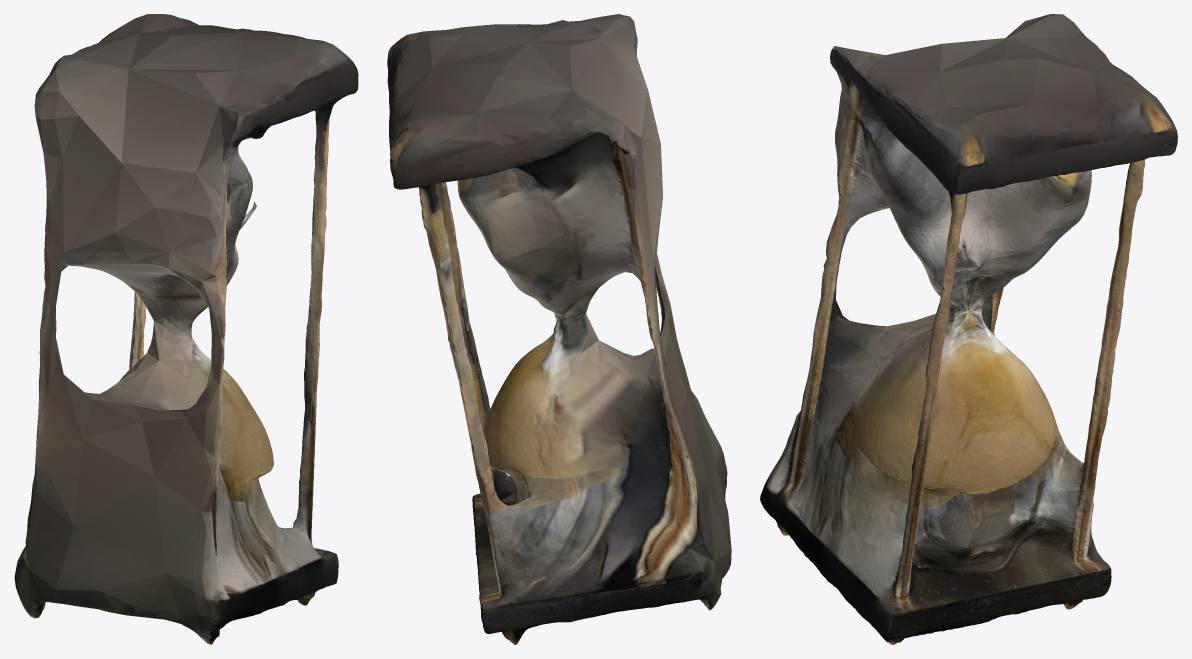
File: Hourglass.glb
3 views of the same model, side by side, from view 1: azimuth 30°, elevation 25°; view 2: azimuth 150°, elevation 25°; view 3: azimuth 270°, elevation 25° (orthographic). The views are drawn at different scales.
Bounding box in the file's own units: 0.4917 × 0.7723 × 0.5134.
1 material, 1 textured.
